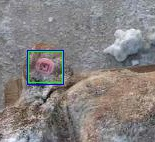text: (28, 51, 62, 82)
